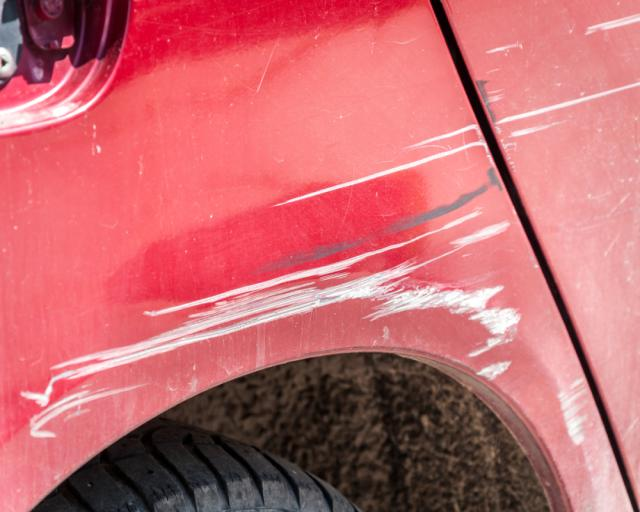scratch: (11, 116, 529, 451), (464, 4, 640, 167), (557, 375, 589, 457)
